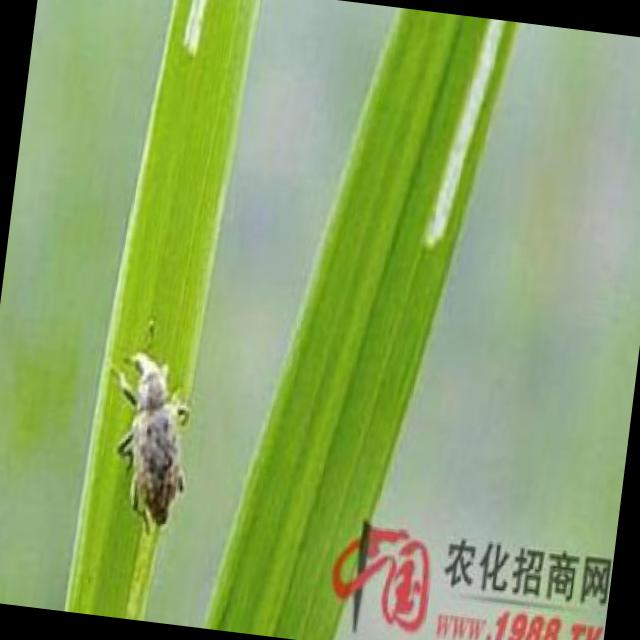rice-bug: (106, 334, 204, 534)
